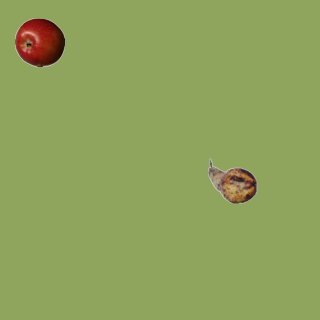Apple Braeburn: (14, 17, 64, 67)
Pear Abate: (207, 156, 257, 206)
